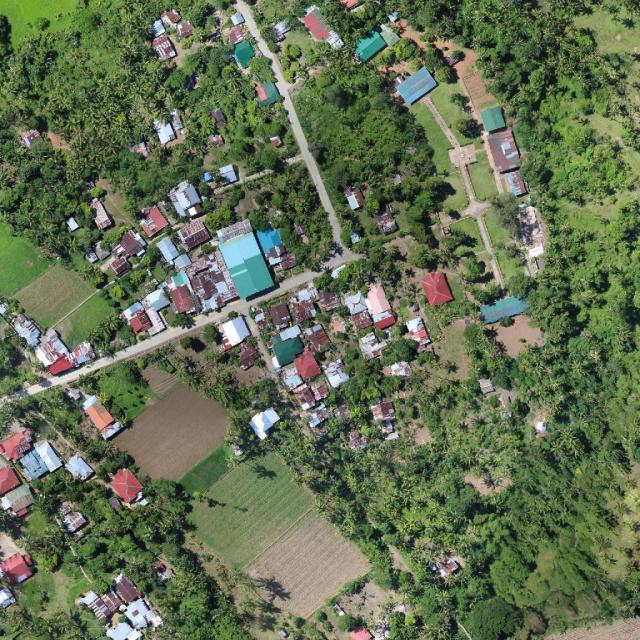agricultural_land: (101, 364, 238, 500), (11, 253, 114, 355), (12, 255, 94, 334), (0, 222, 50, 295)
building: (4, 0, 340, 352), (208, 232, 505, 491), (0, 424, 152, 613), (455, 48, 569, 273), (0, 316, 104, 386), (472, 275, 554, 331)
greenland: (272, 7, 475, 292), (179, 45, 294, 161), (0, 0, 79, 44), (255, 1, 317, 25), (84, 546, 122, 581)
